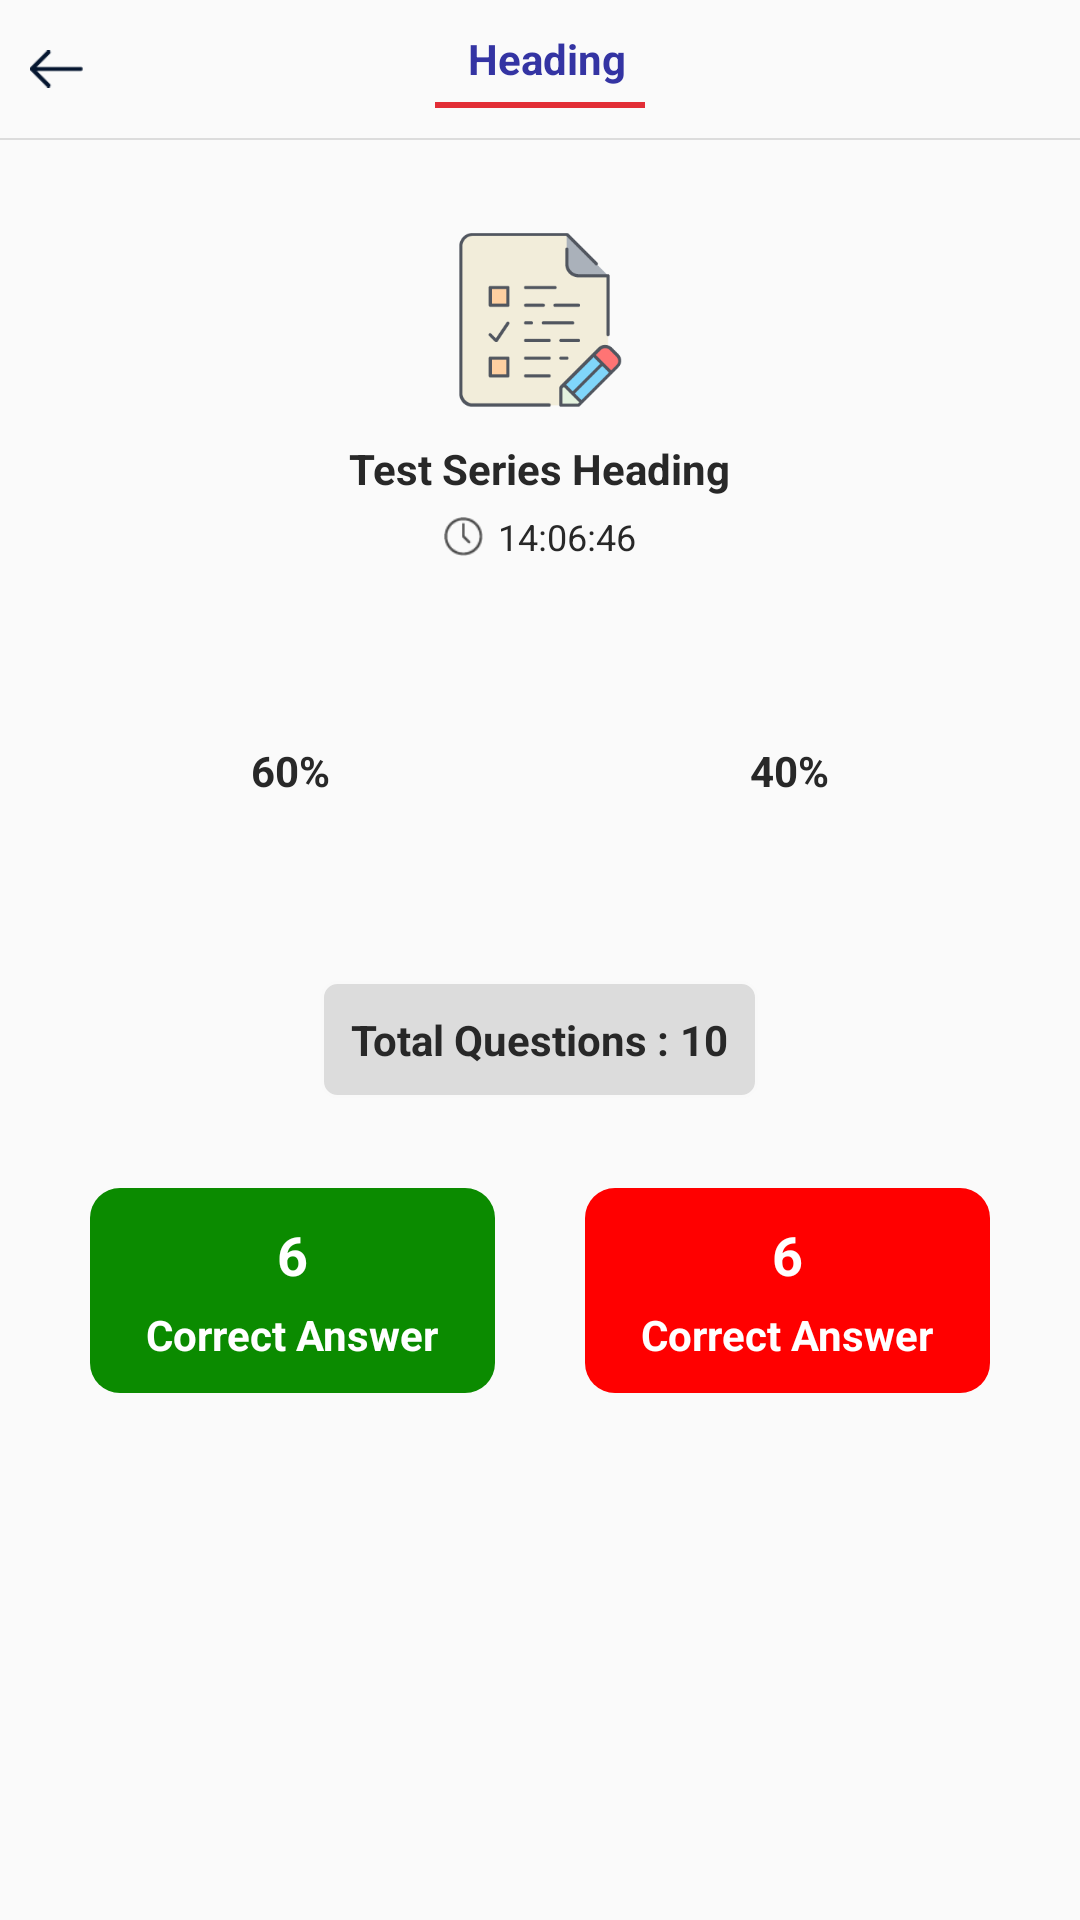

Icons on this 1080px x 1920px Android screen, each with the point to tap as [x,y]:
back: [56,69]
clock: [463,536]
study complete: [540,320]
